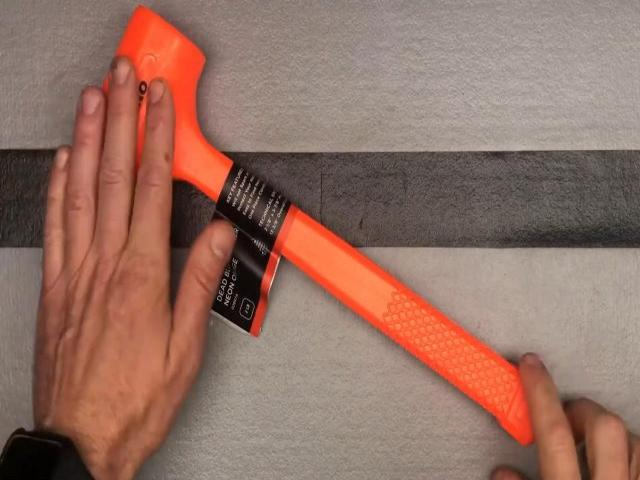hammer: (72, 6, 556, 442)
